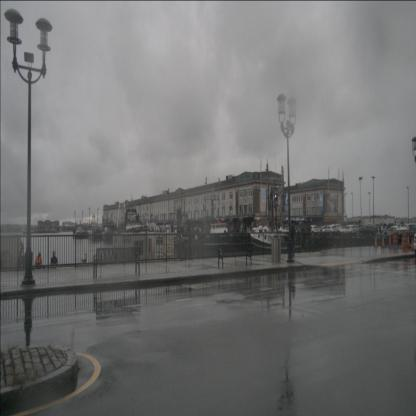cone: (392, 230, 398, 250), (402, 233, 408, 250), (410, 238, 415, 251), (407, 234, 411, 249), (388, 234, 392, 246), (374, 236, 378, 248), (382, 236, 386, 247)
